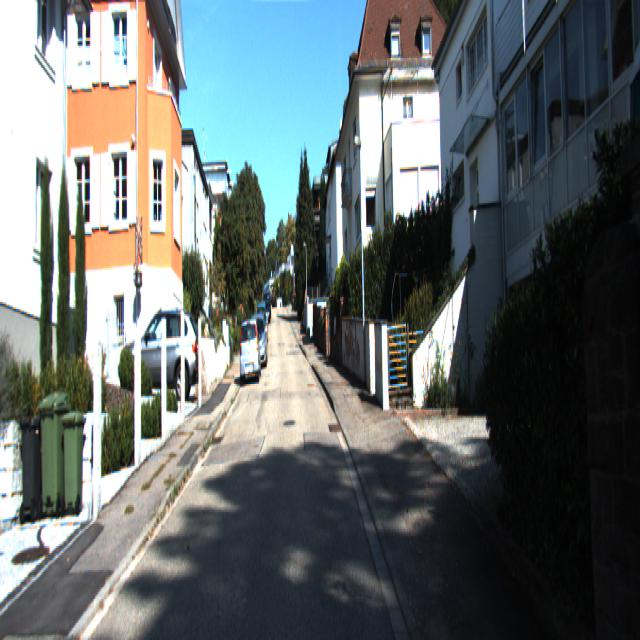Car: (122, 301, 203, 402), (240, 318, 262, 388), (246, 312, 268, 369)
